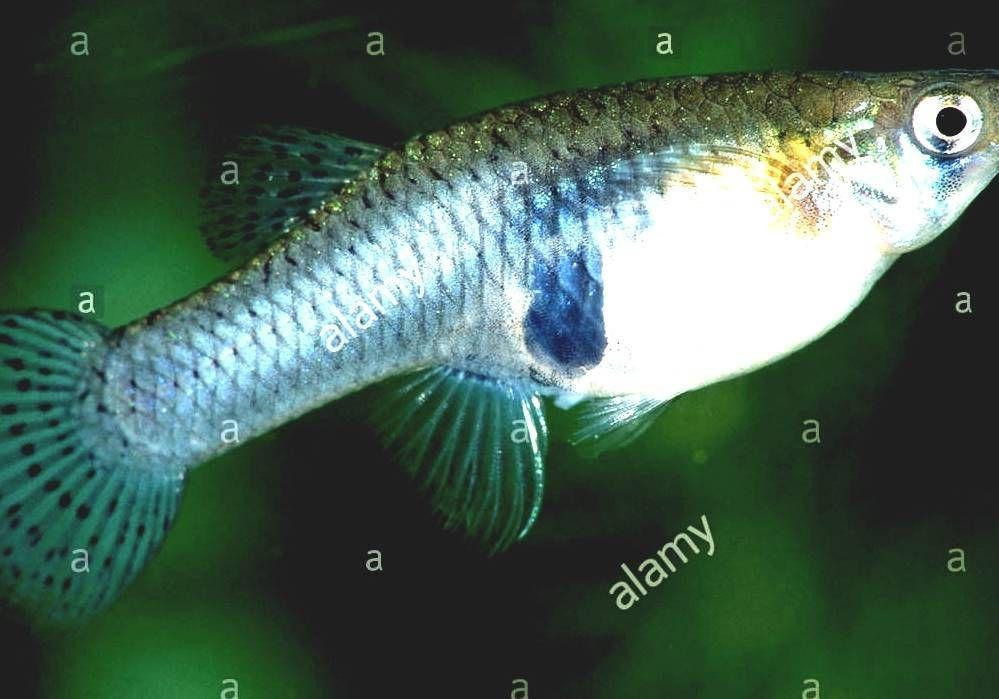Mosquito Fish: (0, 0, 999, 630)
